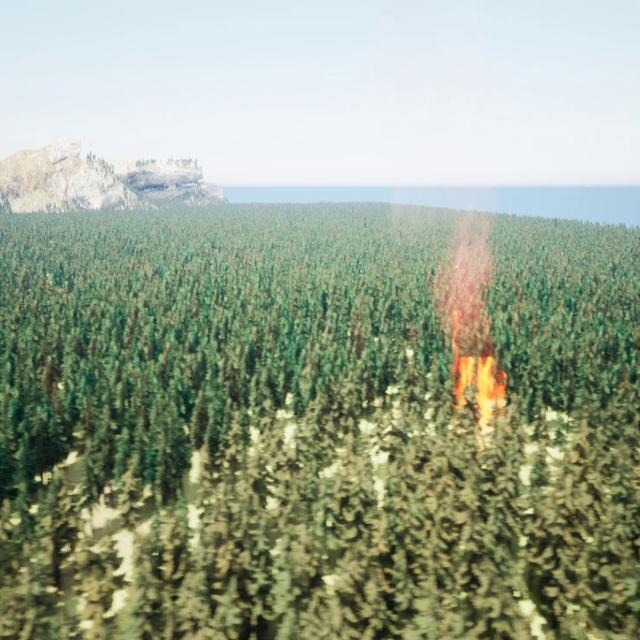fire: (451, 338, 506, 411)
smoke: (436, 209, 495, 336)
